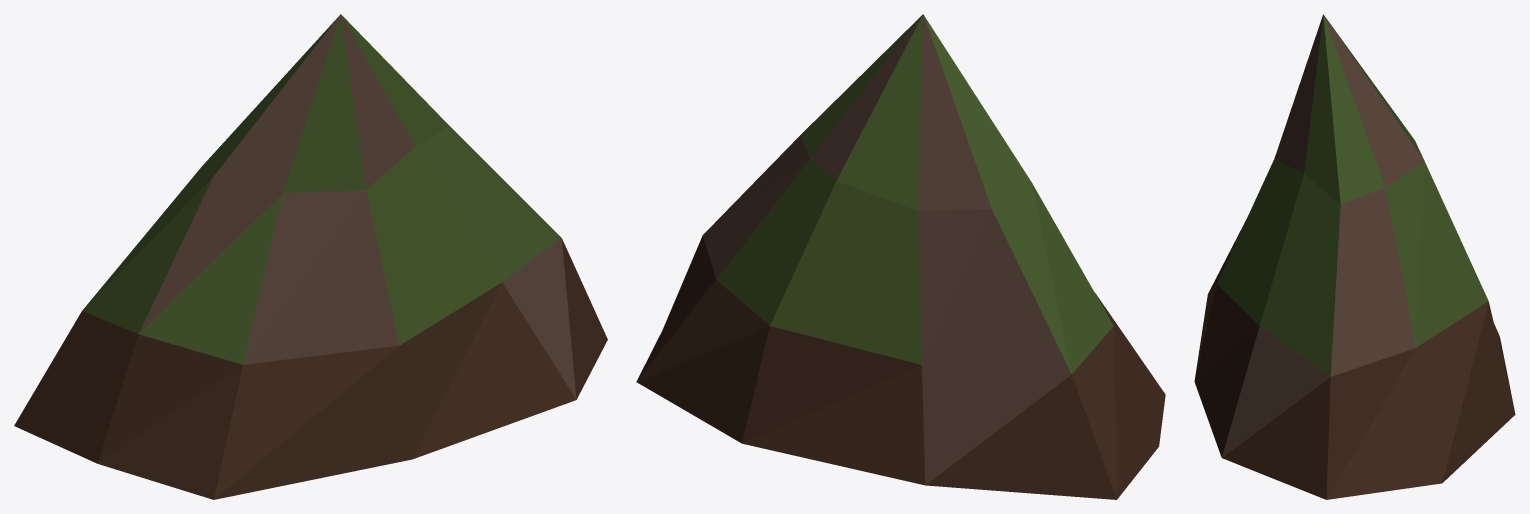
Rendered from Mountain_A.obj.
3 renders of one model, left to right at view 1: azimuth 30°, elevation 25°; view 2: azimuth 150°, elevation 25°; view 3: azimuth 270°, elevation 25°, orthographic. The views are drawn at different scales.
Parts seen in each view (by area): view 1: Mountain_A; view 2: Mountain_A; view 3: Mountain_A.
Part boxes in pixels (<box>): Mountain_A: <box>14,14,607,499</box>; Mountain_A: <box>636,14,1165,499</box>; Mountain_A: <box>1194,14,1515,499</box>.
Size of the model in its own units: 82.28 by 58.39 by 46.27.
